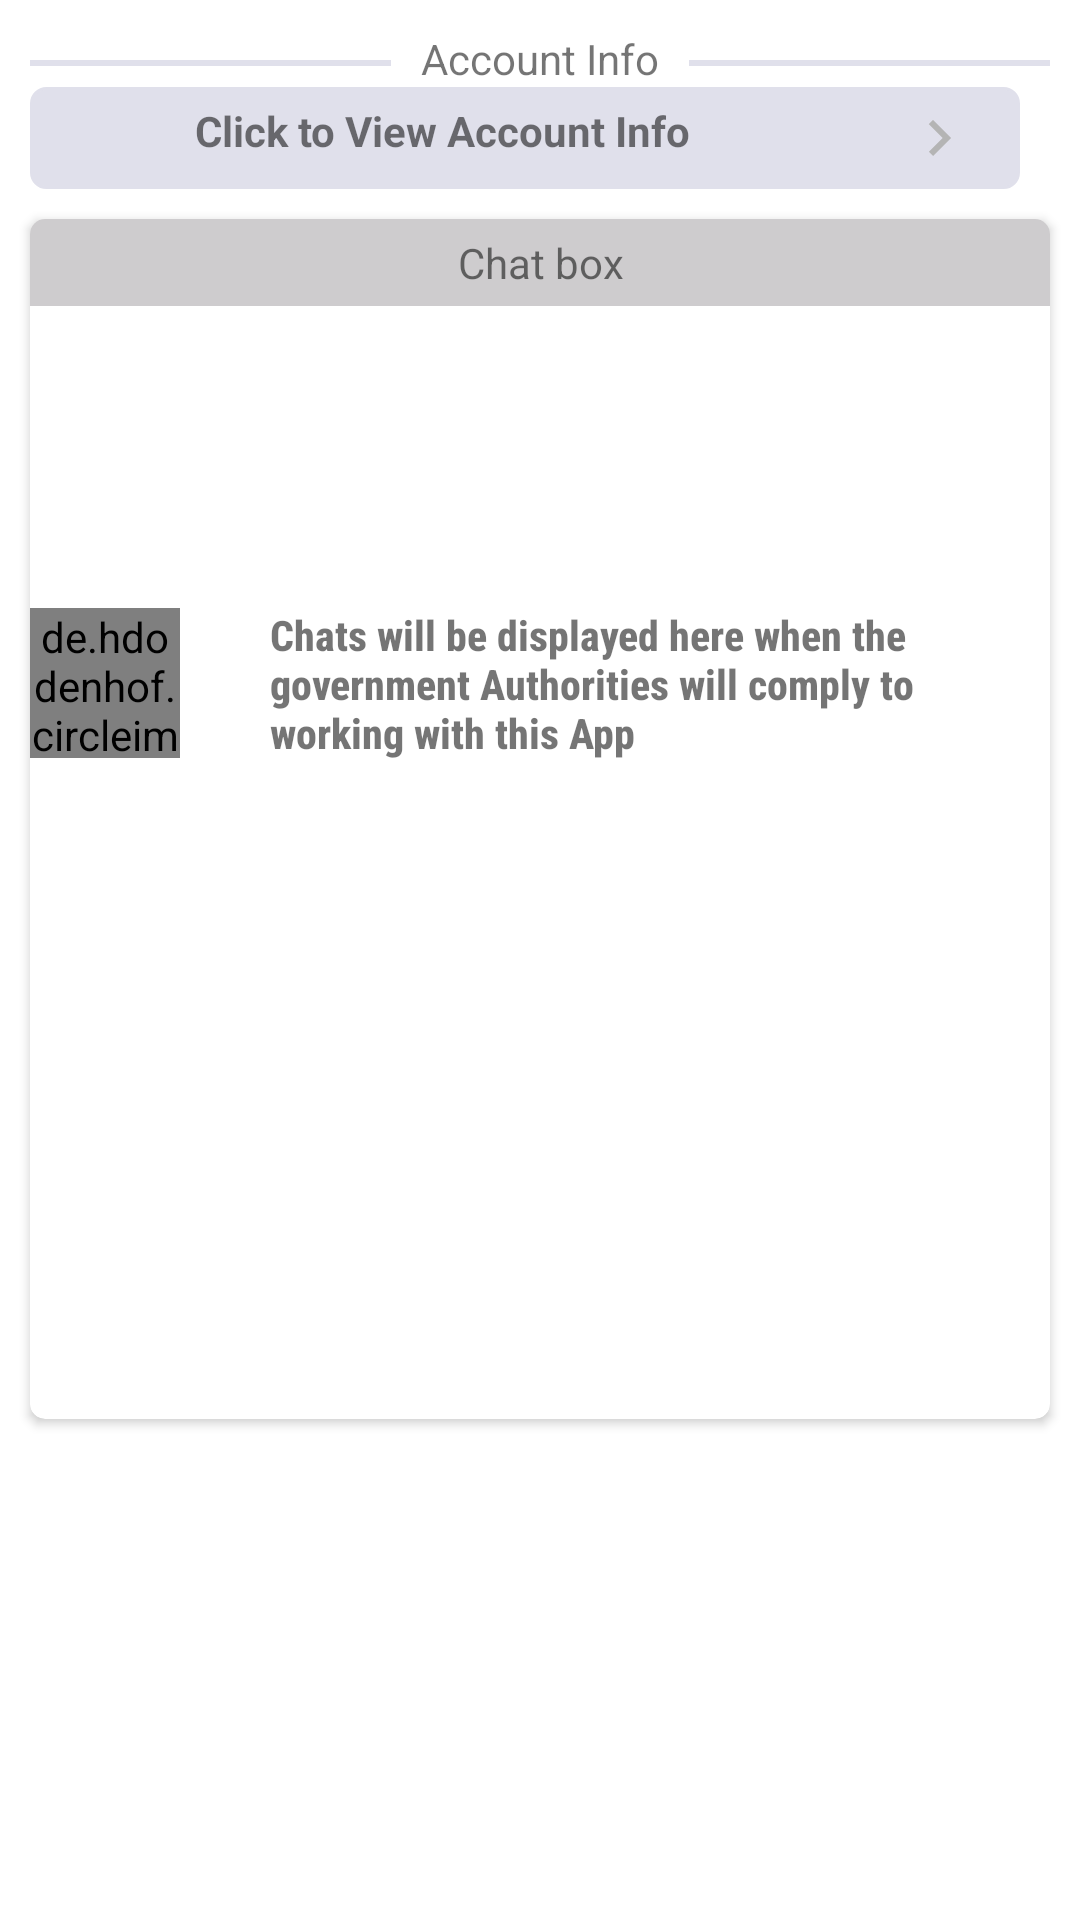

Where icons sit on this 1080px x 1920px app screen, as (x1, y1, x2, y2):
keyboard arrow right: (929, 120, 951, 156)
